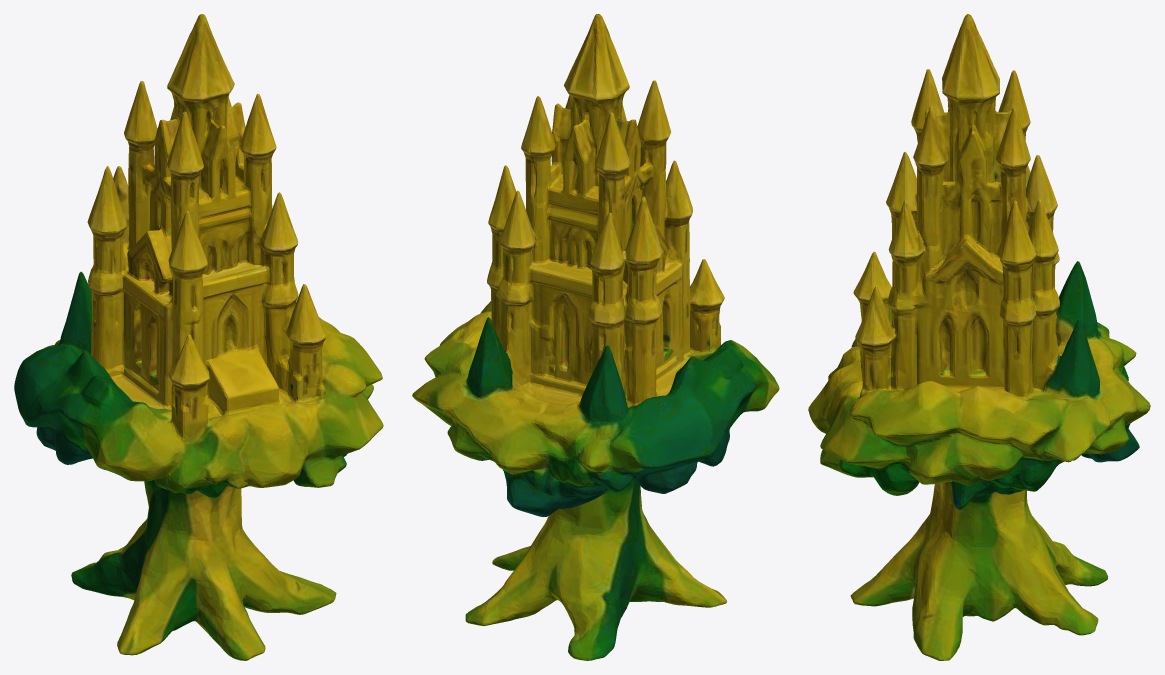
File: CAPITAL_VERDANT.glb
The picture shows the model from 3 angles, left to right: view 1: azimuth 30°, elevation 25°; view 2: azimuth 150°, elevation 25°; view 3: azimuth 270°, elevation 25°; orthographic projection. The views are drawn at different scales.
Parts seen in each view (by area): view 1: CAPITAL_VERDANT_512; view 2: CAPITAL_VERDANT_512; view 3: CAPITAL_VERDANT_512.
Boxes of the visible parts, bbox=[...] form: CAPITAL_VERDANT_512: bbox=[14, 14, 383, 660]; CAPITAL_VERDANT_512: bbox=[412, 14, 779, 660]; CAPITAL_VERDANT_512: bbox=[808, 14, 1150, 660].
Size of the model in its own units: 1.04 by 1.99 by 1.04.
1 material, 1 textured.
